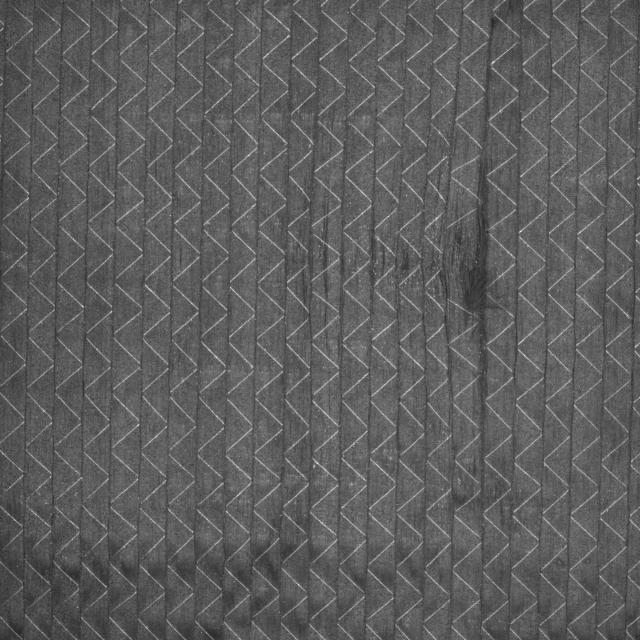carbon-fibre-defect: (424, 180, 521, 334)
